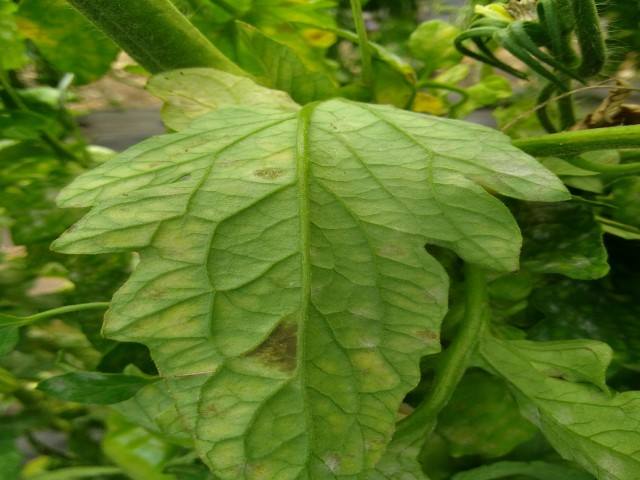negra: (249, 313, 298, 376), (381, 233, 406, 267), (248, 163, 288, 180), (416, 322, 436, 350)
